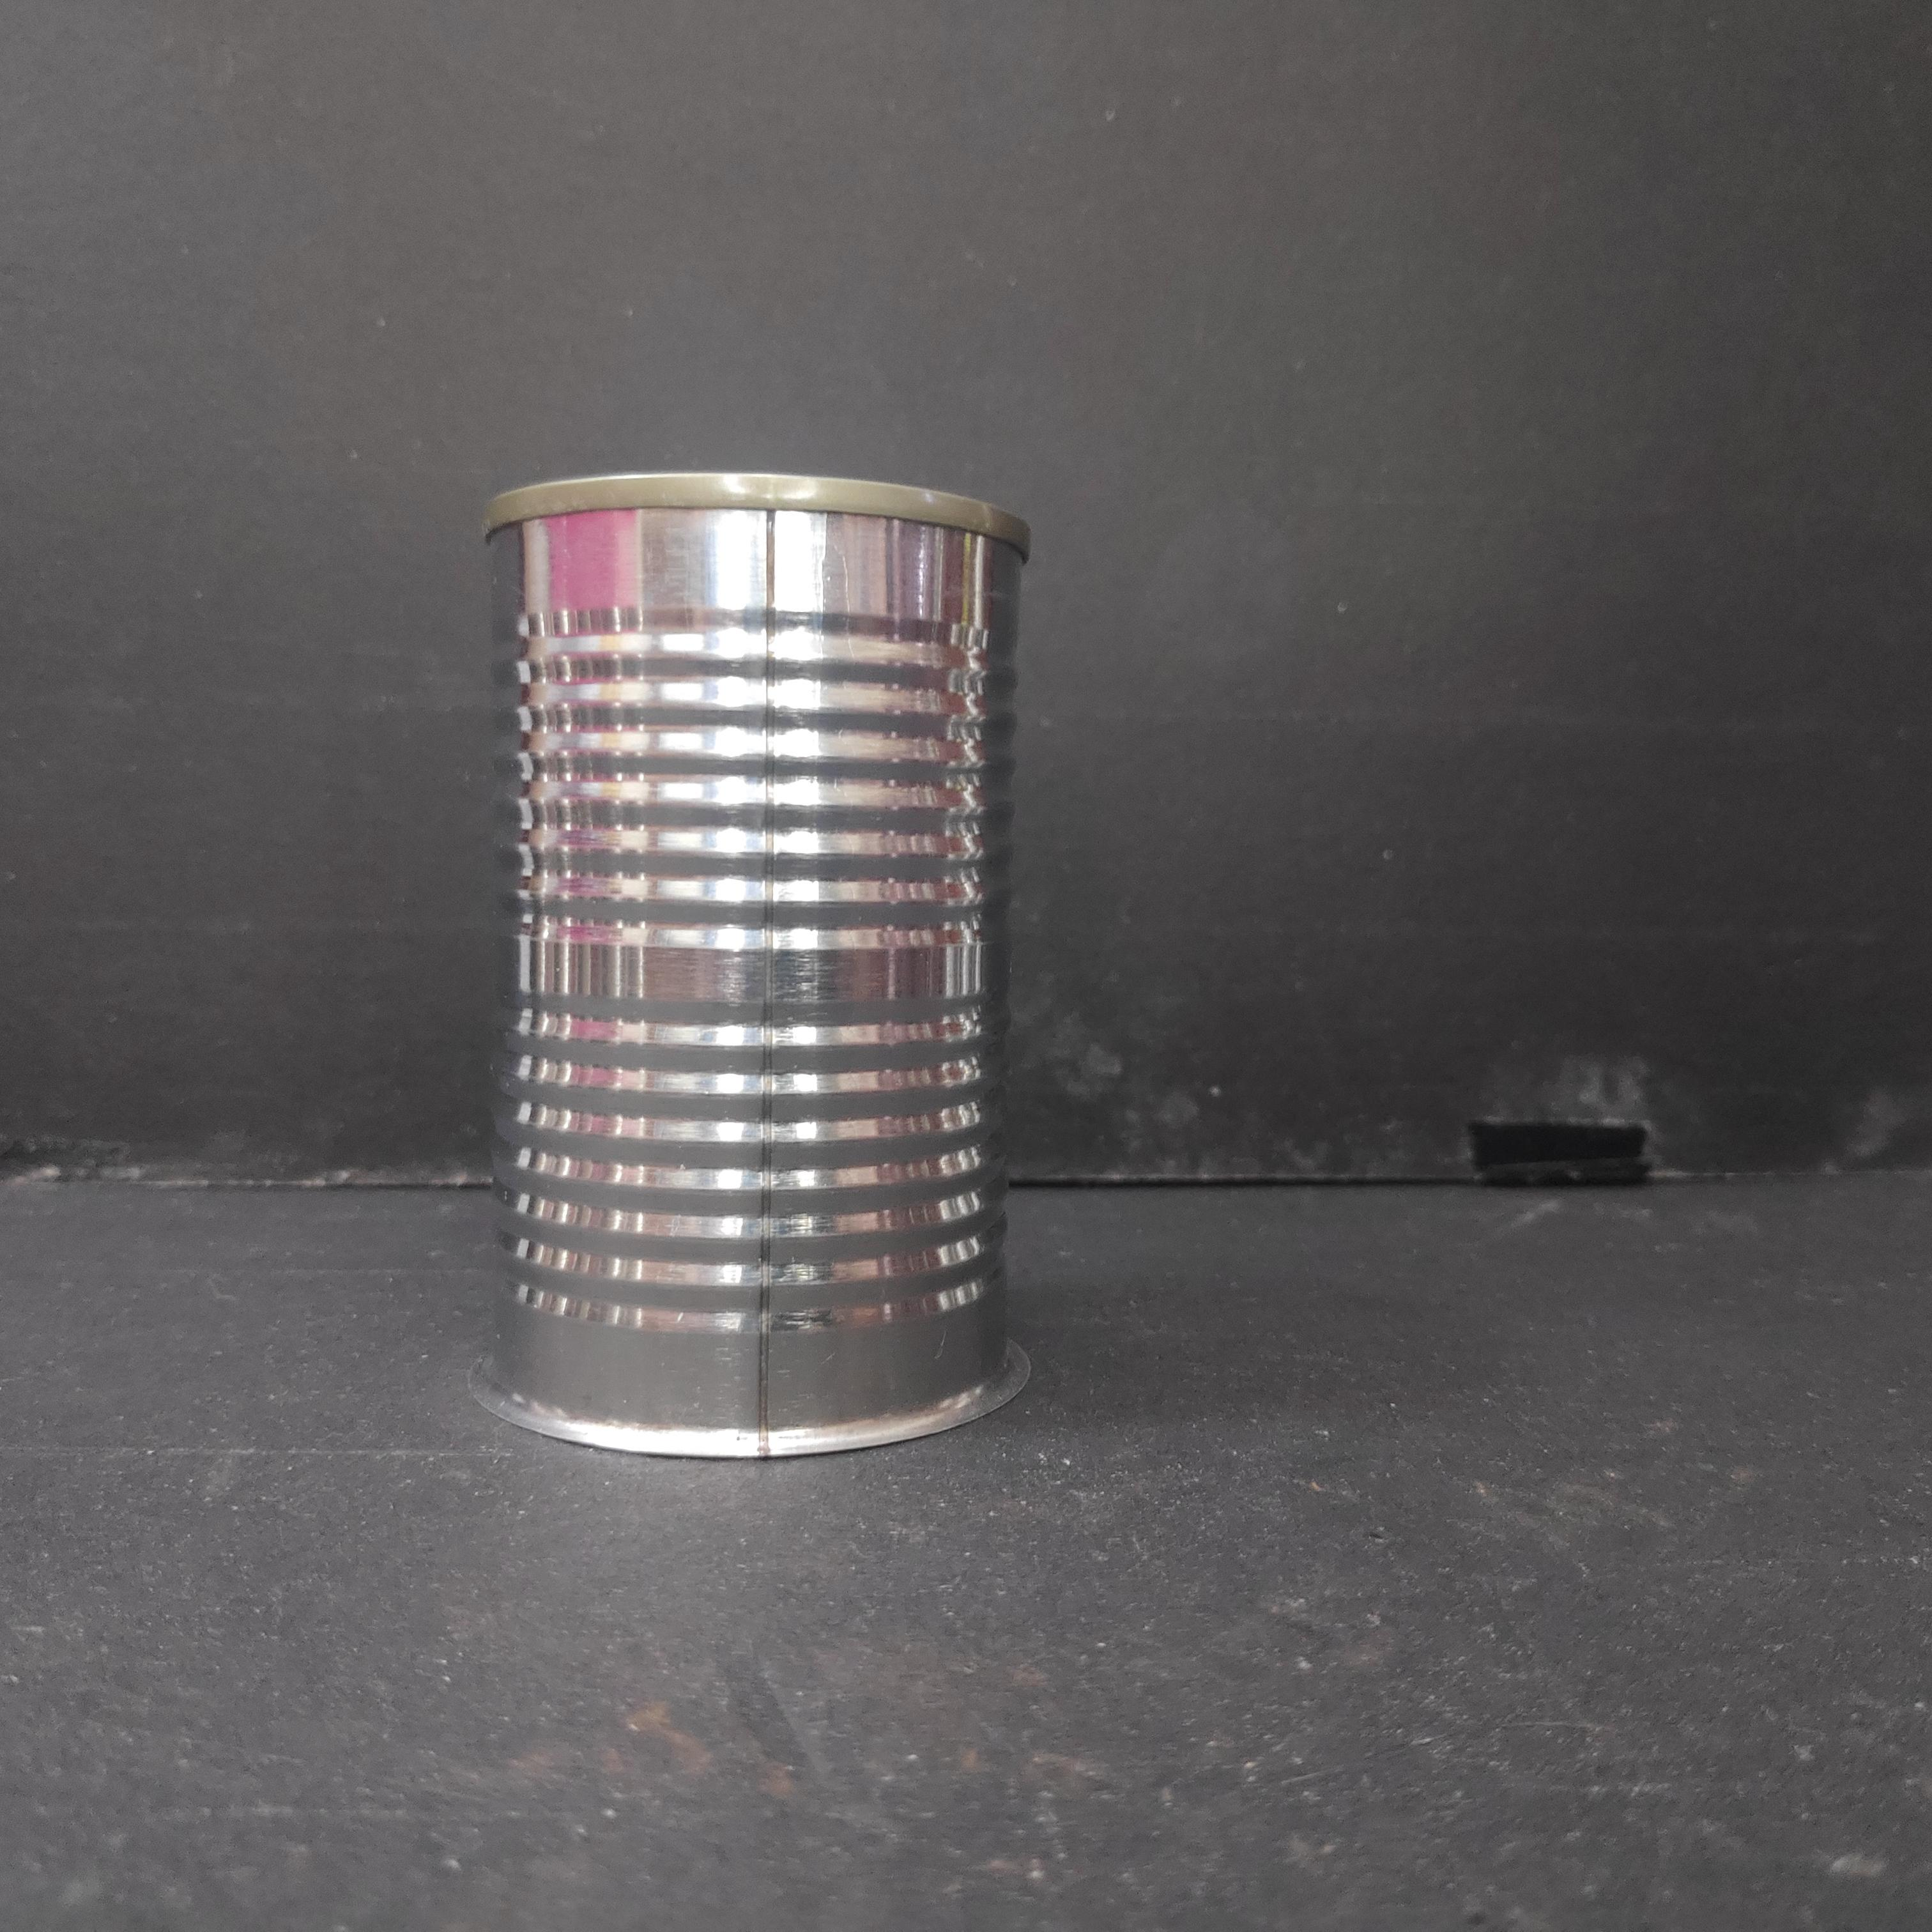No defect: (468, 469, 1038, 1463)
